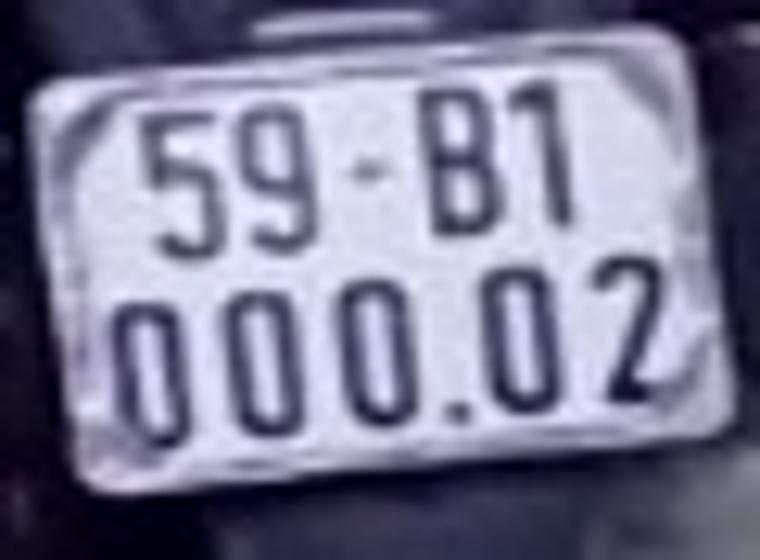-: (342, 158, 396, 188)
.: (438, 388, 479, 434)
0: (330, 272, 430, 431), (214, 287, 314, 437), (476, 258, 567, 419), (110, 294, 192, 452)
1: (514, 71, 583, 236)
2: (588, 252, 683, 412)
5: (129, 102, 232, 262)
9: (230, 102, 330, 256)
B: (418, 81, 513, 240)
